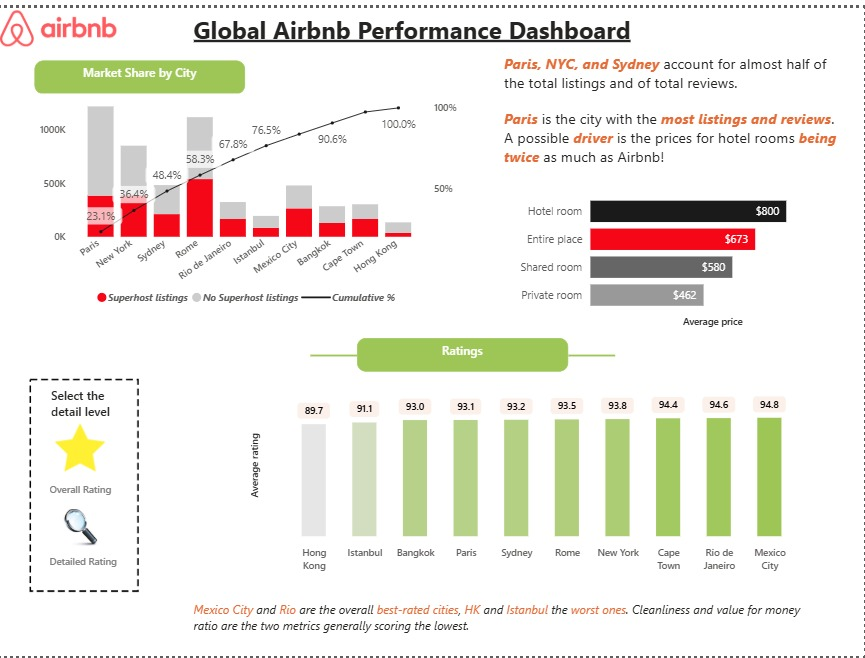

The dashboard page shown, as its layout file describes it:
{"tool":"powerbi","page":{"name":"Ratings","canvas":[960,720],"ordinal":1},"visuals":[{"type":"textbox","box":[210.4,0,539.2,58.3],"z":0},{"type":"image","box":[51.8,458.2,74.5,59.9],"z":0,"group":"g1"},{"type":"image","box":[64.8,557,48.6,42.1],"z":0,"group":"g2"},{"type":"image","box":[0,0,129.5,45.3],"z":1000},{"type":"textbox","box":[50.2,518.1,93.9,38.9],"z":1000,"group":"g1"},{"type":"textbox","box":[50.2,599.1,87.4,38.9],"z":1000,"group":"g2"},{"type":"textbox","box":[38.6,58.6,234.3,37.1],"z":2000},{"type":"textbox","box":[555.4,45.3,388.6,142.5],"z":3000},{"type":"lineStackedColumnComboChart","fields":{"Category":["Listings.city"],"Y":["Listings.Superhost listings","Listings.No Superhost listings"],"Y2":["Listings.Cumulative %"]},"box":[38.9,95.5,474.4,244.5],"z":4000},{"type":"barChart","fields":{"Category":["Listings.room_type"],"Y":["Listings.Average price"]},"box":[566.7,187.8,365.9,171.6],"z":5000},{"type":"textbox","box":[210.5,652.5,707.6,55.1],"z":7000},{"type":"textbox","box":[396.7,365.9,234.8,37.2],"z":8000},{"type":"shape","box":[344.9,367.6,51.8,35.6],"z":9000},{"type":"shape","box":[631.5,367.6,51.8,35.6],"z":10000},{"type":"image","box":[0,403.2,187.8,254.2],"z":11000},{"type":"textbox","box":[51.8,414.5,92.3,48.6],"z":13000},{"type":"pivotTable","fields":{"Rows":["Listings.city"],"Values":["Listings.Accuracy","Listings.Cleanliness","Listings.Communication","Listings.Location","Listings.Value"]},"box":[276.9,414.5,599.1,218.6],"z":14500},{"type":"group","id":"g1","title":"Group 1","box":[50.2,458.2,93.9,98.8],"z":15000},{"type":"group","id":"g2","title":"Group 2","box":[50.2,557,87.4,81],"z":16000}]}

Visuals, with their boxes in screenshot pixels (x1, y1, x2, y2), scaled from the page's 960x720 canvas onto the 865x658 screenshot:
textbox: 190/0/675/53
image: 47/419/114/473
image: 58/509/102/548
image: 0/0/117/41
textbox: 45/473/130/509
textbox: 45/548/124/583
textbox: 35/54/246/87
textbox: 500/41/851/172
lineStackedColumnComboChart - Listings.city x Listings.Superhost listings: 35/87/463/311
barChart - Listings.room_type x Listings.Average price: 511/172/840/328
textbox: 190/596/827/647
textbox: 357/334/569/368
shape: 311/336/357/368
shape: 569/336/616/368
image: 0/368/169/601
textbox: 47/379/130/423
pivotTable - Listings.city x Listings.Accuracy: 249/379/789/579
"Group 1" group: 45/419/130/509
"Group 2" group: 45/509/124/583
